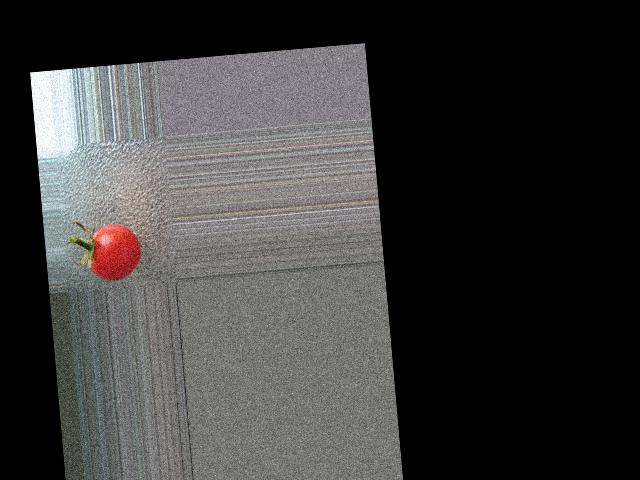tomato: (87, 221, 143, 281)
